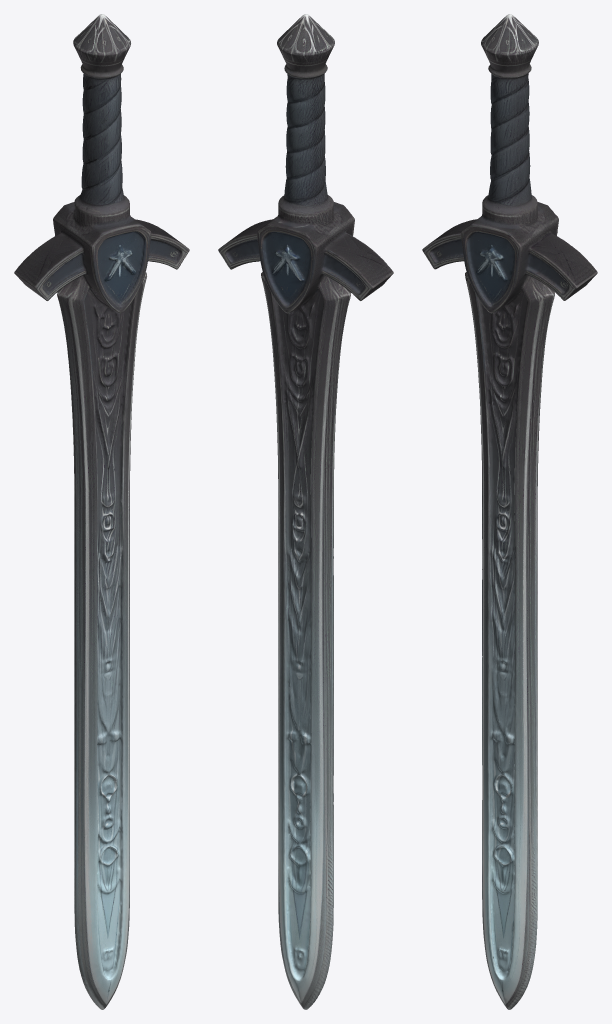
File: 수검_texture.fbx
3 views of the same model, side by side, from view 1: azimuth 30°, elevation 25°; view 2: azimuth 150°, elevation 25°; view 3: azimuth 330°, elevation 25° (orthographic).
Parts seen in each view (by area): view 1: Mesh_0; view 2: Mesh_0; view 3: Mesh_0.
Boxes of the visible parts, x1,y1,x2,y2 form: Mesh_0: (14,14,189,1009); Mesh_0: (218,14,393,1009); Mesh_0: (422,14,597,1009).
Size of the model in its own units: 31.02 by 190 by 13.88.
Materials: 1 (1 with a texture image).
